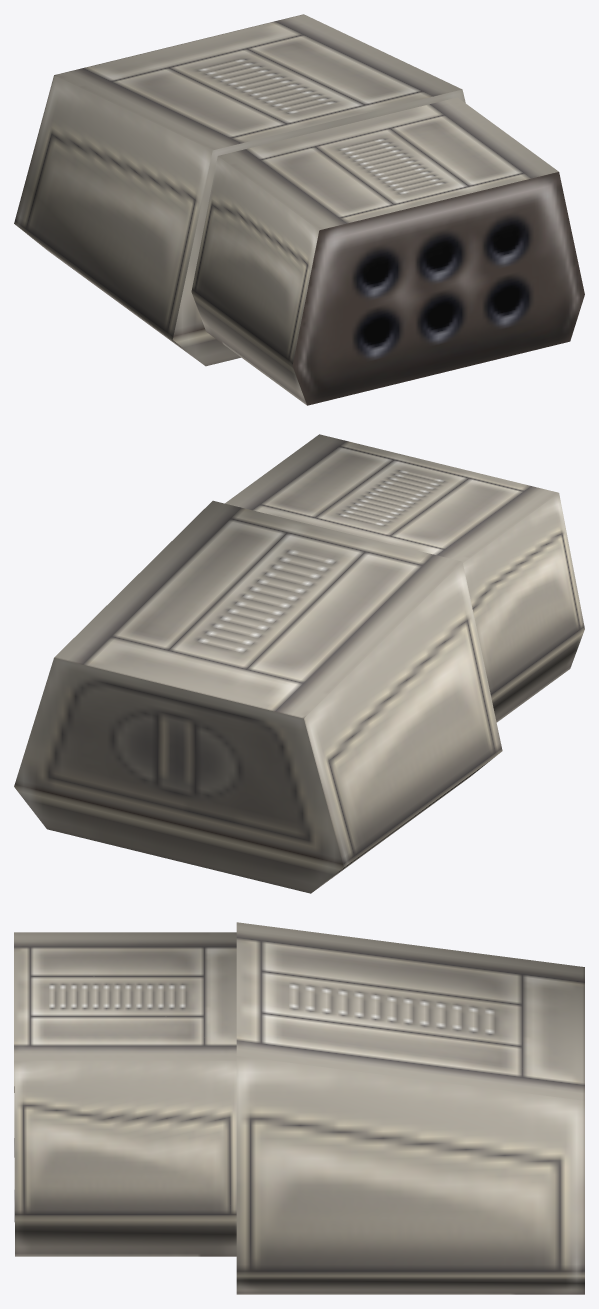
File: acs14.obj
3 renders of one model, top to bottom at view 1: azimuth 30°, elevation 25°; view 2: azimuth 150°, elevation 25°; view 3: azimuth 270°, elevation 25°, orthographic. The views are drawn at different scales.
Visible parts, largest first — view 1: frm-wepbar, frm-acs14; view 2: frm-acs14, frm-wepbar; view 3: frm-acs14, frm-wepbar.
Boxes of the visible parts, left/top/right/bottom form: frm-wepbar: left=191, top=97, right=584, bottom=405; frm-acs14: left=14, top=14, right=465, bottom=366; frm-acs14: left=14, top=500, right=502, bottom=893; frm-wepbar: left=225, top=434, right=584, bottom=722; frm-acs14: left=236, top=922, right=584, bottom=1294; frm-wepbar: left=14, top=932, right=236, bottom=1256.
Bounding box in the file's own units: 3.6 × 2.23 × 4.92.
